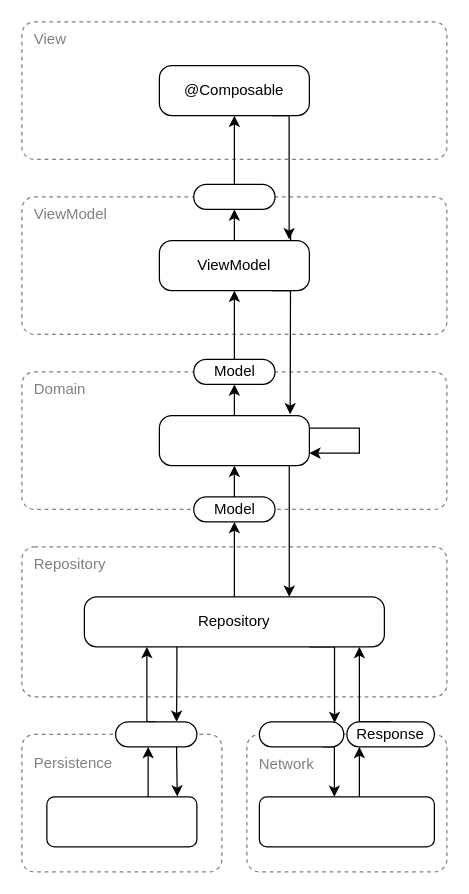
Image size: 469x894. Some labels were removed from this diagram. The shapes that lost their labels are listed below. From the top down, each one's centre as x and y in pixels, then its label:
[233,196]: State
[233,440]: UseCase
[155,734]: Entity
[301,734]: Request
[121,821]: Dao
[346,821]: Api
